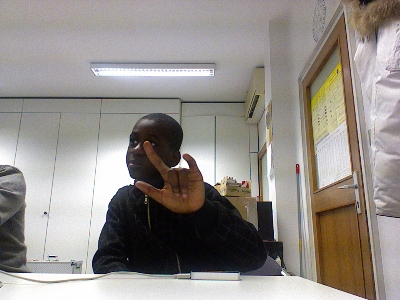我爱你: (132, 138, 206, 213)
